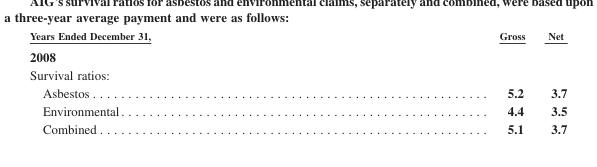table: (28, 29, 566, 136)
table column: (28, 29, 324, 136), (324, 29, 536, 136), (536, 29, 566, 136)
table column header: (28, 29, 566, 45)
table projected row header: (28, 45, 566, 65), (28, 65, 566, 83)
table row: (28, 45, 566, 65), (28, 65, 566, 83), (28, 83, 566, 101), (28, 101, 566, 119), (28, 119, 566, 136), (28, 29, 566, 45)
